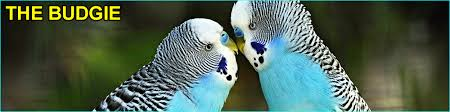budgie: (230, 1, 373, 112), (90, 15, 237, 112)
